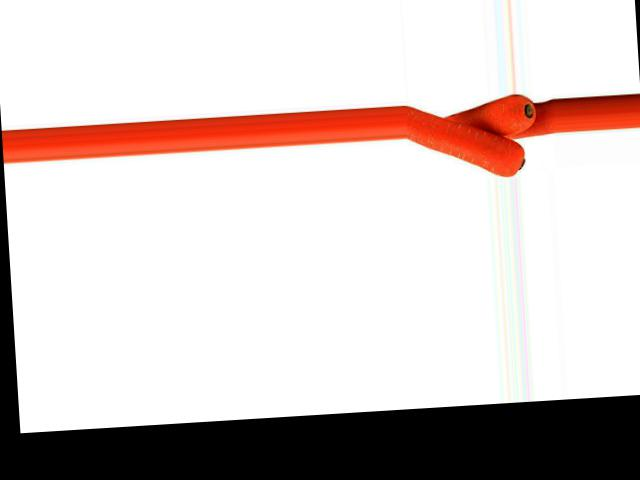carrot: (438, 95, 542, 138)
